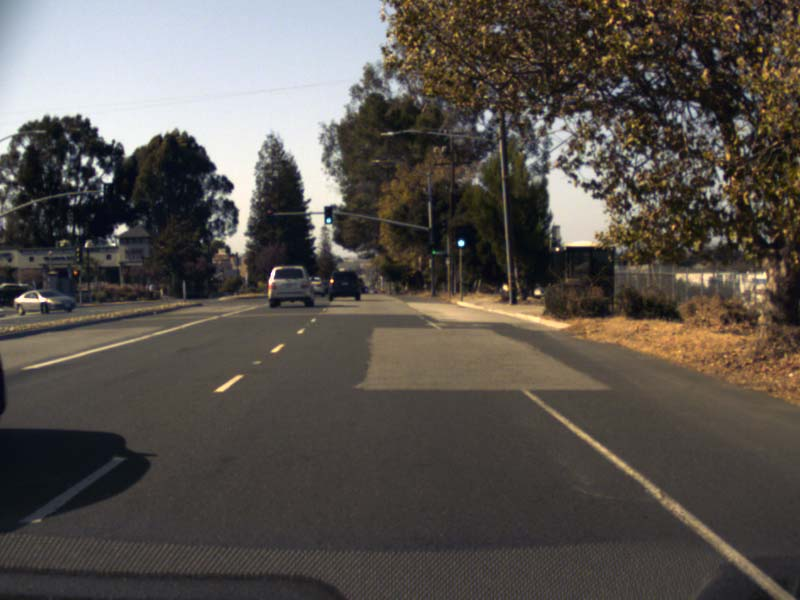Green: (431, 228, 441, 254), (455, 225, 465, 247), (324, 206, 332, 223)
Red: (72, 269, 78, 282), (266, 209, 271, 220)
